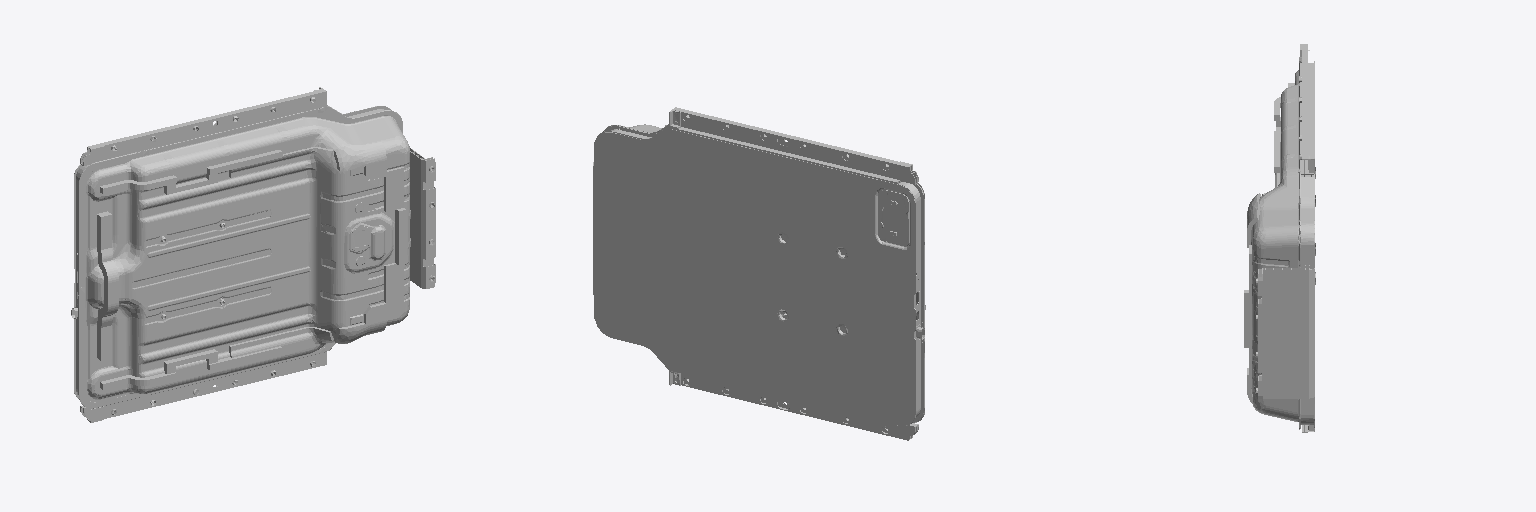
Rendered from niro.obj.
The picture shows the model from 3 angles: view 1: azimuth 30°, elevation 25°; view 2: azimuth 150°, elevation 25°; view 3: azimuth 270°, elevation 25°; orthographic projection.
Size of the model in its own units: 186 by 144 by 34.33.